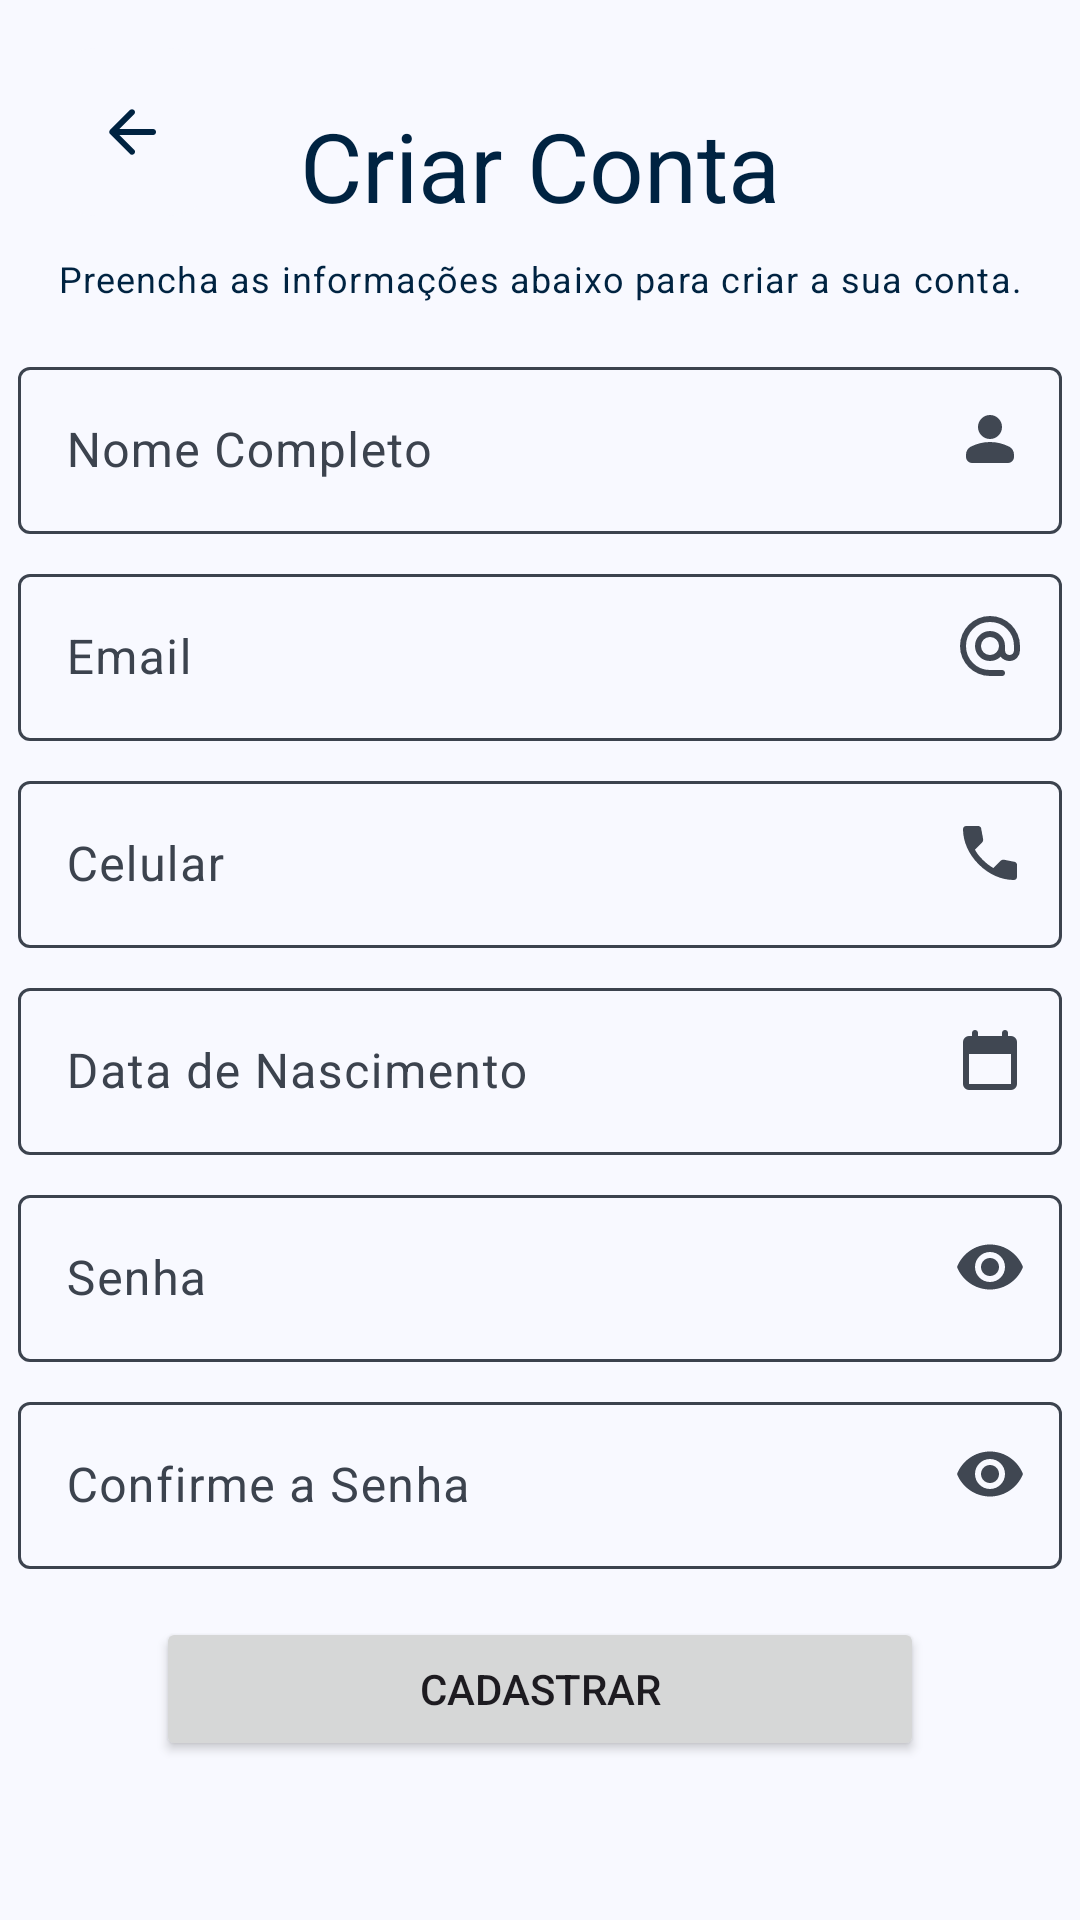

Named icons in this screenshot (1080w x 1920h) and their bounding boxes, (x1, y1, x2, y2):
Voltar para a tela anterior: (109, 109, 156, 155)
